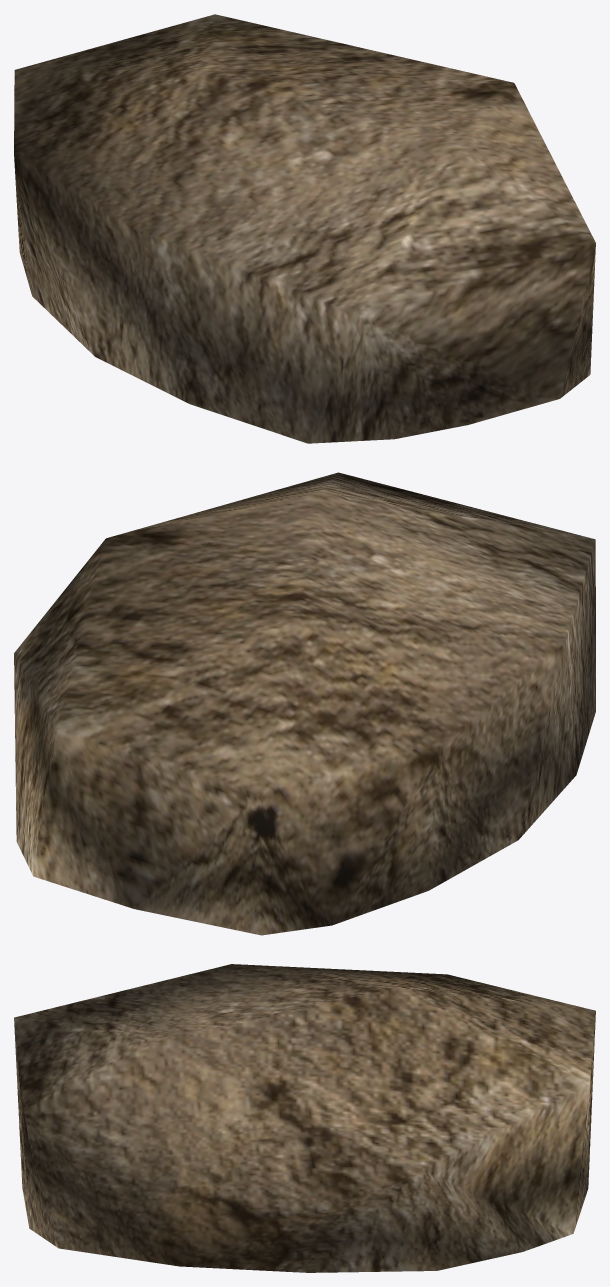
Rendered from stone7_tex1.fbx.
3 renders of one model, top to bottom at view 1: azimuth 30°, elevation 25°; view 2: azimuth 150°, elevation 25°; view 3: azimuth 270°, elevation 25°, orthographic. The views are drawn at different scales.
Parts seen in each view (by area): view 1: stone7_tex1Object; view 2: stone7_tex1Object; view 3: stone7_tex1Object.
Boxes of the visible parts, x1,y1,x2,y2 form: stone7_tex1Object: [14, 14, 595, 443]; stone7_tex1Object: [14, 472, 595, 935]; stone7_tex1Object: [14, 964, 595, 1272].
Bounding box in the file's own units: 1.1 × 0.5238 × 1.51.
1 material, 1 textured.
